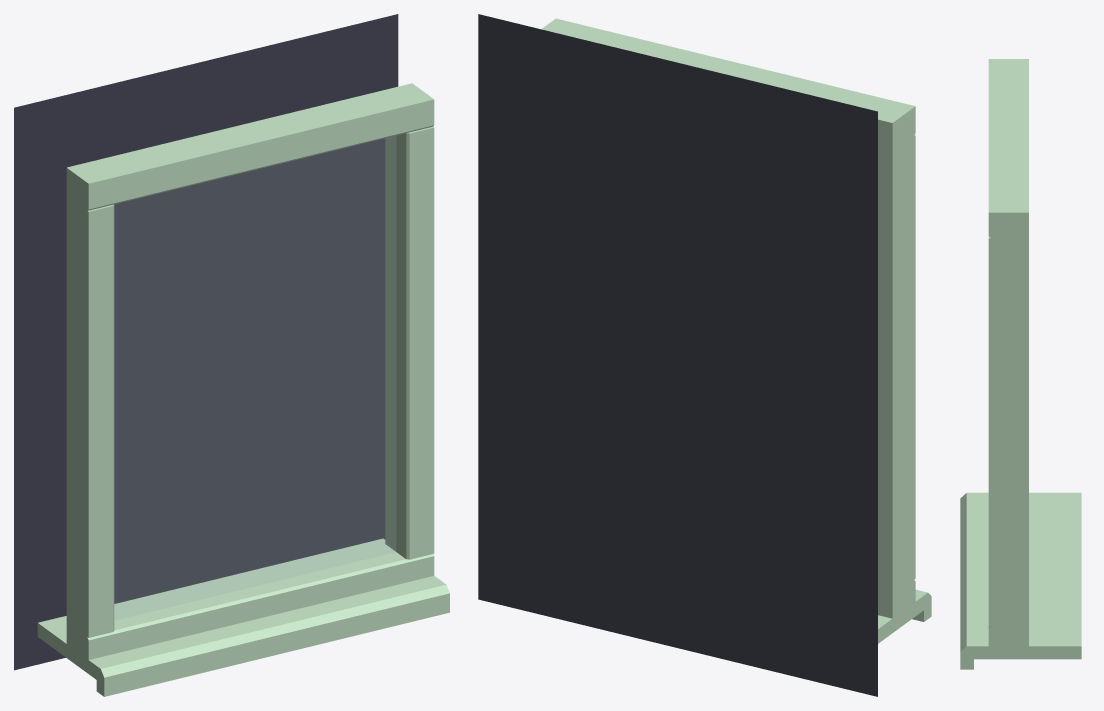
Rendered from mod_window_single.glb.
3 renders of one model, left to right at view 1: azimuth 30°, elevation 25°; view 2: azimuth 150°, elevation 25°; view 3: azimuth 270°, elevation 25°, orthographic. The views are drawn at different scales.
Parts seen in each view (by area): view 1: curtain, Glass, frame_right, frame_left, frame_top, sill, frame_bottom; view 2: curtain, frame_left, frame_top, sill, frame_bottom; view 3: frame_right, sill, frame_top, frame_bottom.
Part boxes in pixels (x1=…): curtain: x1=14, y1=14, x2=398, y2=670; Glass: x1=115, y1=136, x2=395, y2=619; frame_right: x1=385, y1=126, x2=434, y2=559; frame_left: x1=66, y1=196, x2=114, y2=637; frame_top: x1=66, y1=83, x2=434, y2=210; sill: x1=37, y1=538, x2=449, y2=696; frame_bottom: x1=66, y1=544, x2=434, y2=665; curtain: x1=478, y1=14, x2=877, y2=696; frame_left: x1=878, y1=135, x2=915, y2=595; frame_top: x1=541, y1=18, x2=915, y2=152; sill: x1=878, y1=589, x2=931, y2=643; frame_bottom: x1=878, y1=580, x2=915, y2=618; frame_right: x1=988, y1=236, x2=1028, y2=626; sill: x1=960, y1=492, x2=1081, y2=669; frame_top: x1=988, y1=59, x2=1028, y2=238; frame_bottom: x1=988, y1=626, x2=1028, y2=651.
Bounding box in the file's own units: 1 × 1.4 × 0.32.
